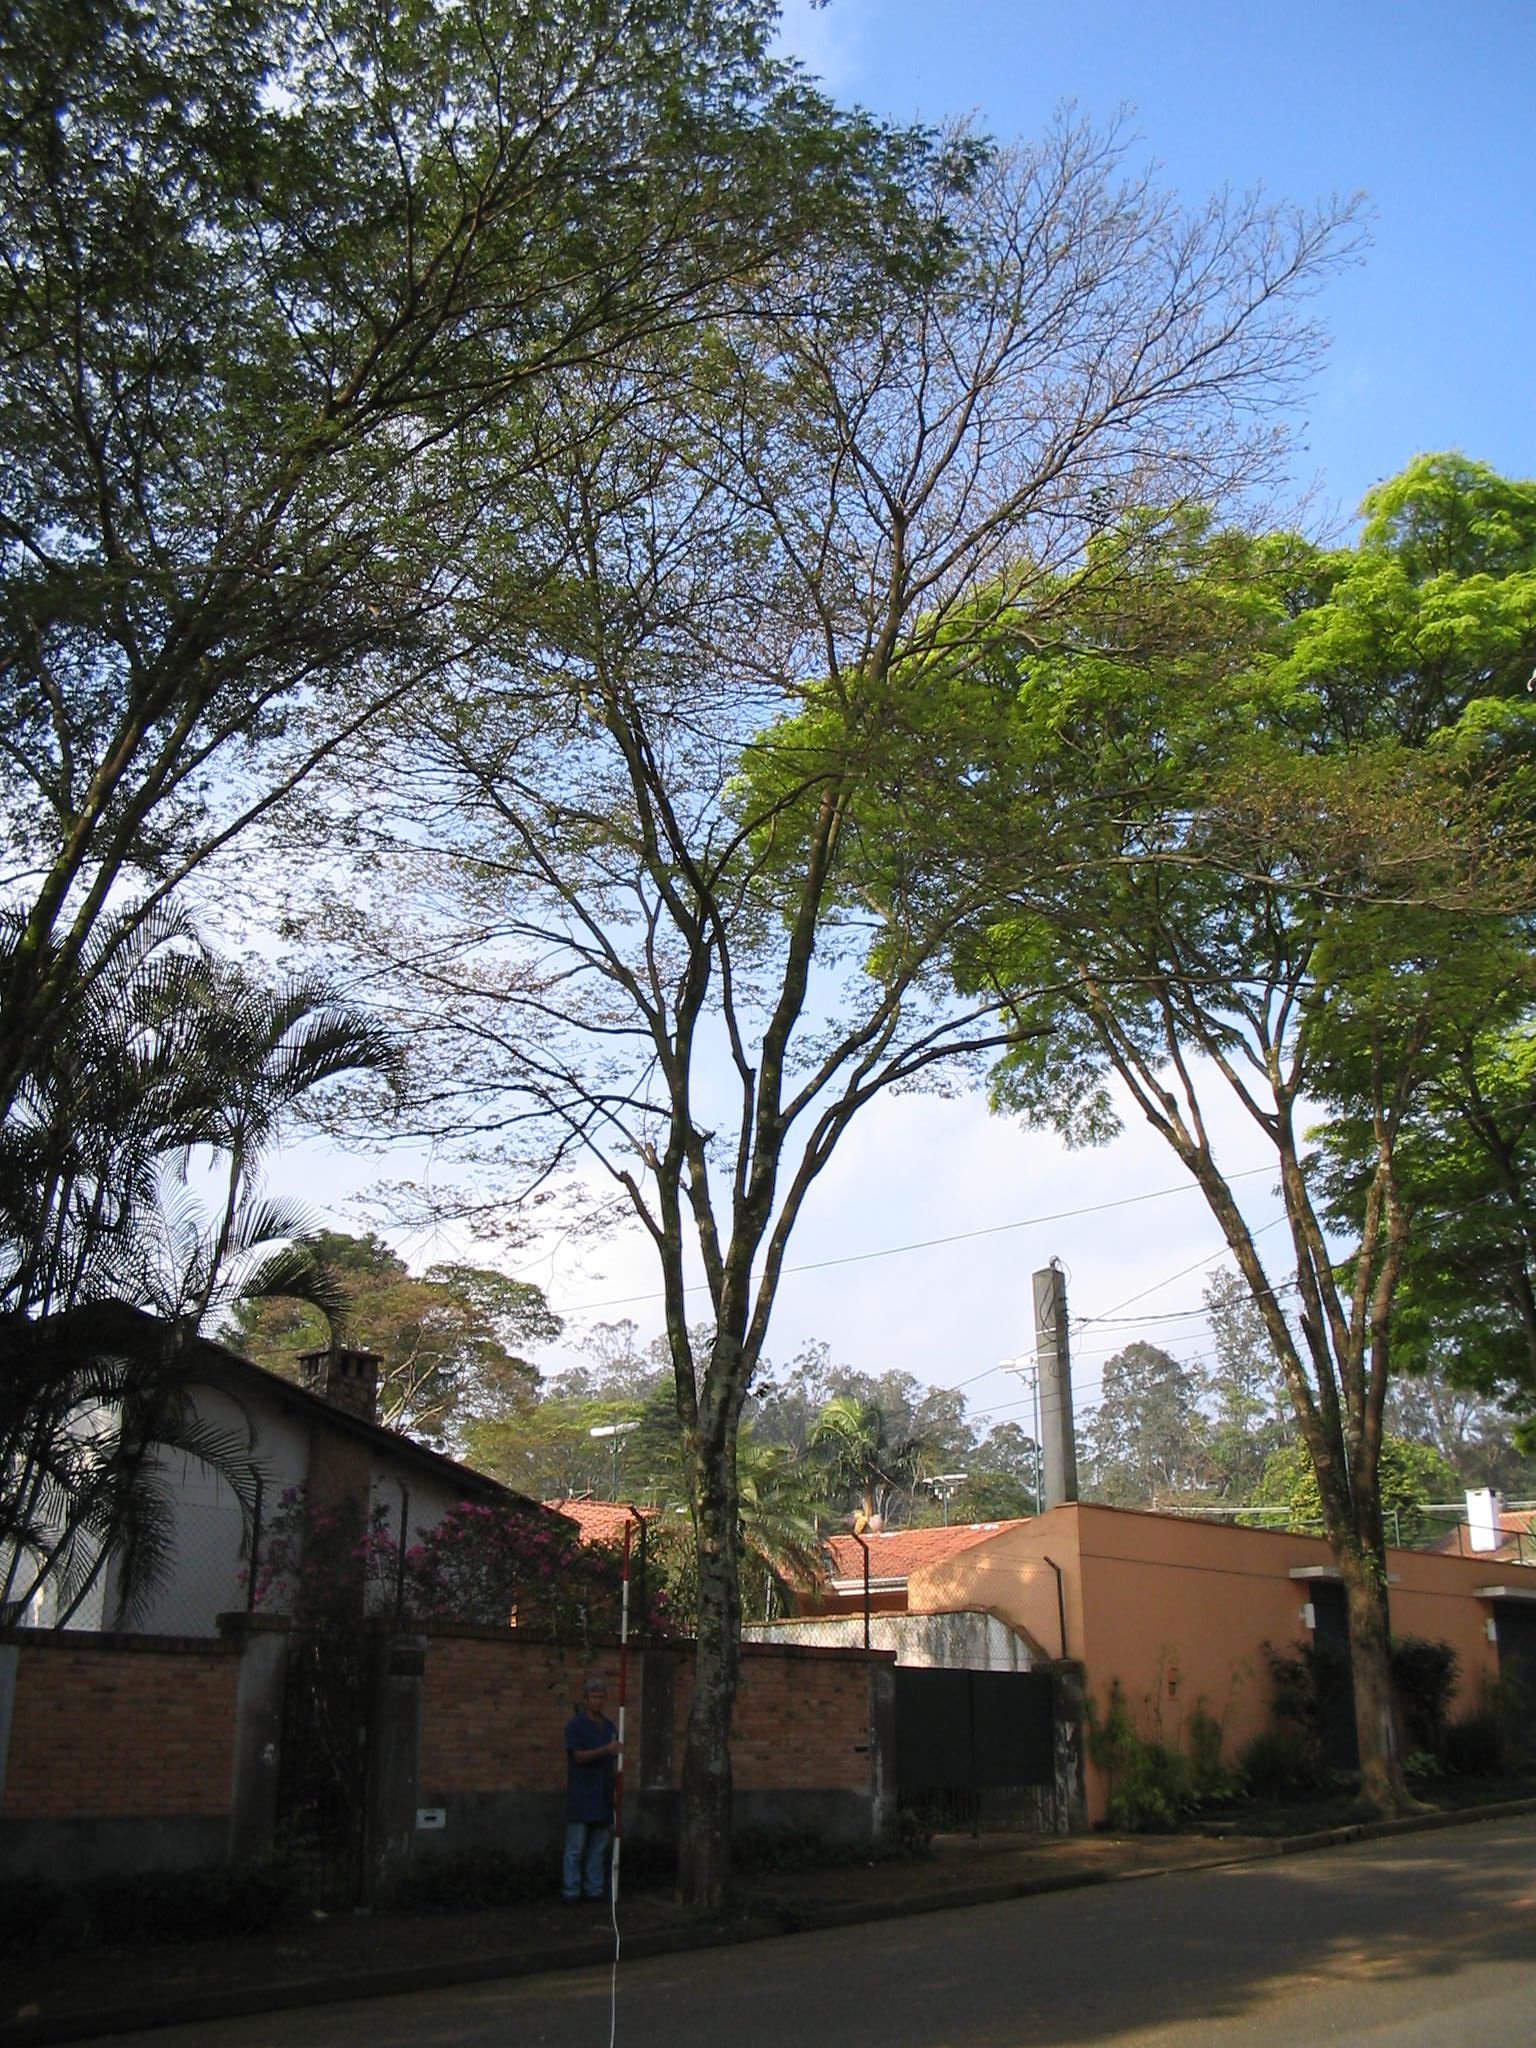crown: (741, 516, 1530, 1184)
stem: (650, 1461, 786, 1916), (1299, 1563, 1446, 1817)
stick: (578, 1517, 653, 1913)
tree: (423, 103, 1392, 1921), (729, 511, 1536, 1824)
